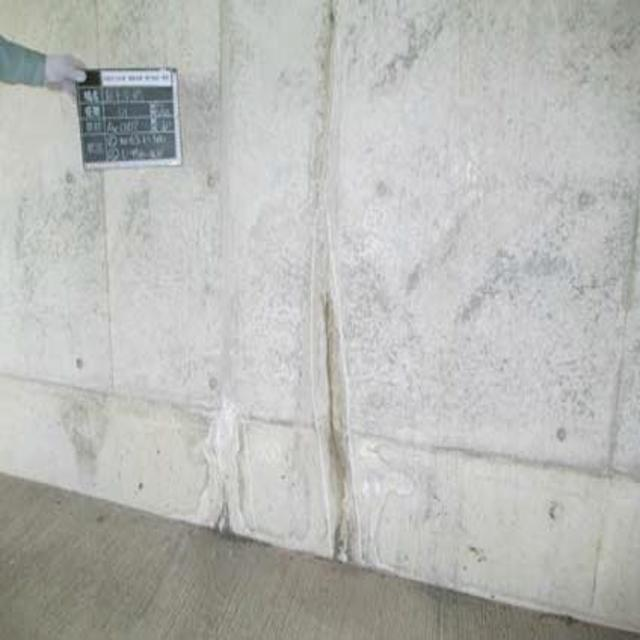freelime: (309, 428, 404, 576), (180, 403, 254, 541)
